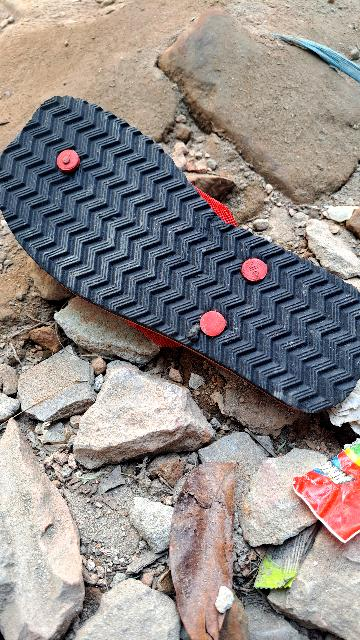sandal: (0, 86, 360, 440)
